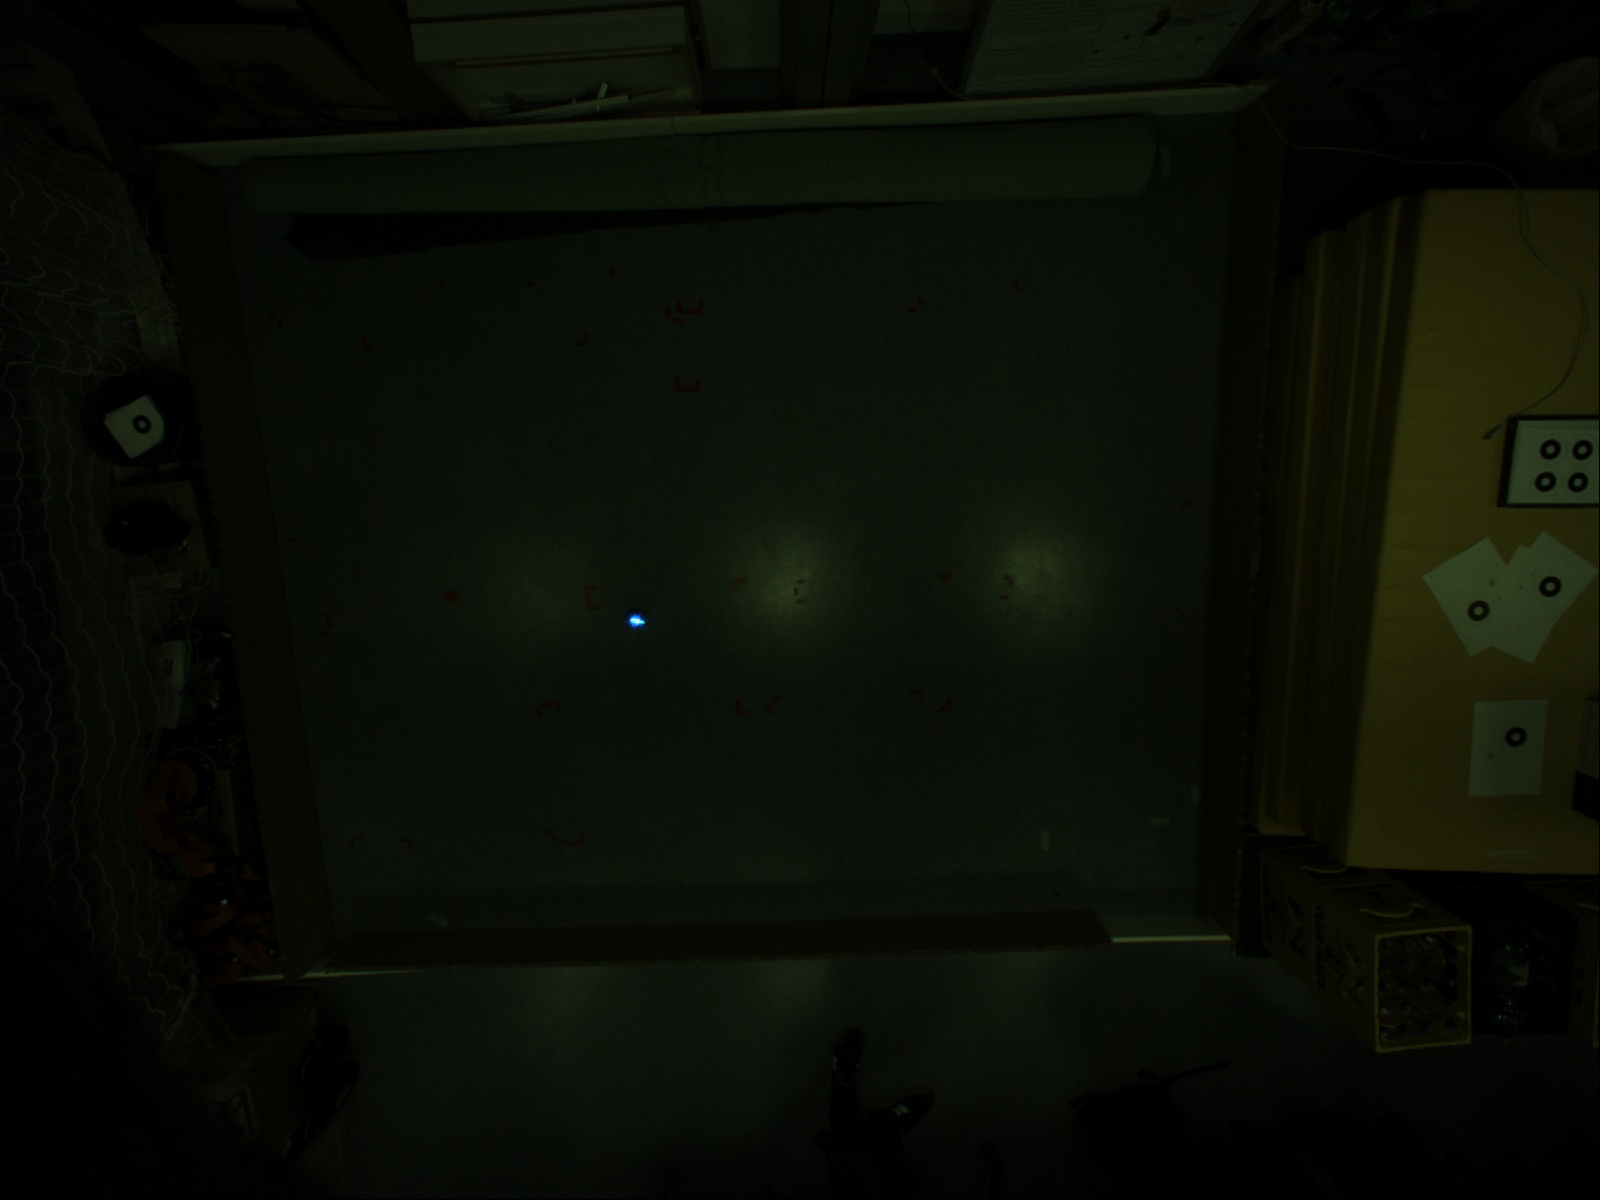sphero: (624, 608, 650, 635)
